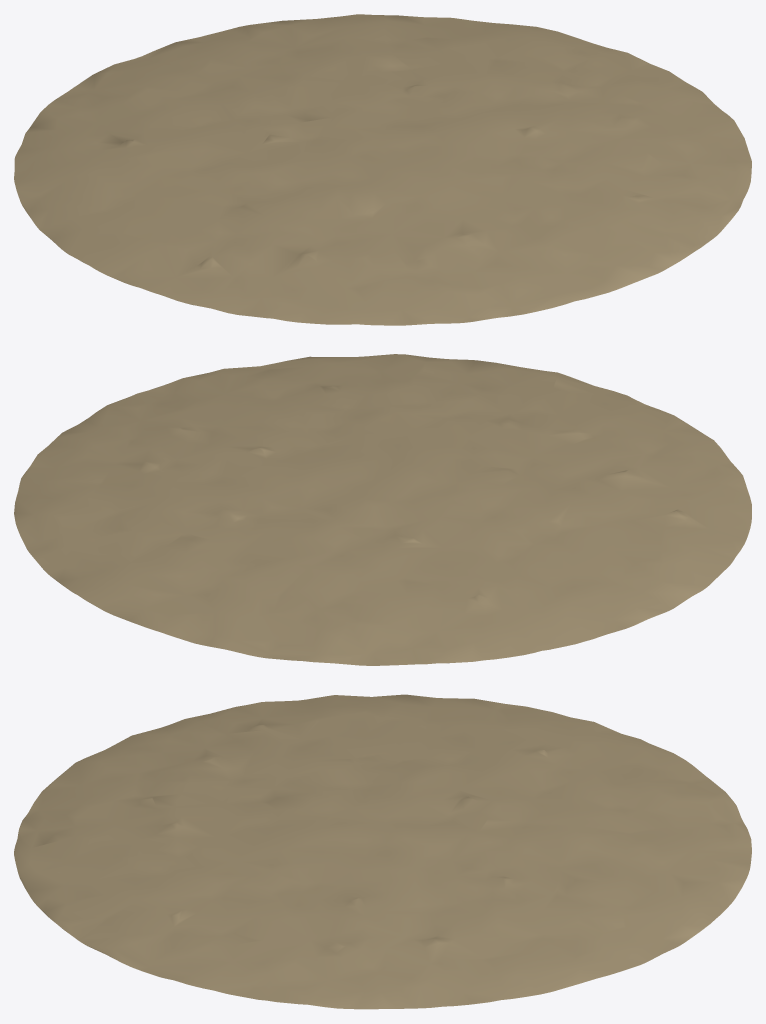
Rendered from Sand.fbx.
The picture shows the model from 3 angles, top to bottom: view 1: azimuth 30°, elevation 25°; view 2: azimuth 150°, elevation 25°; view 3: azimuth 270°, elevation 25°; orthographic projection.
Visible parts, largest first — view 1: Сфера; view 2: Сфера; view 3: Сфера.
Boxes of the visible parts, bbox=[...] form: Сфера: bbox=[14, 14, 751, 325]; Сфера: bbox=[14, 354, 751, 665]; Сфера: bbox=[14, 694, 751, 1009].
Bounding box in the file's own units: 1657 × 56.43 × 1643.
